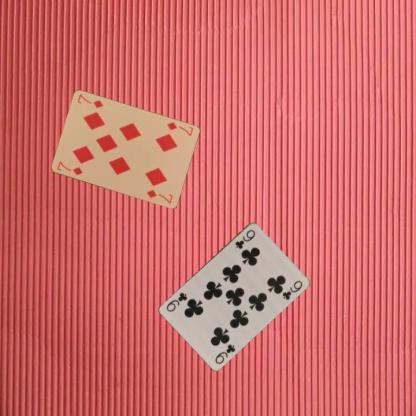7d: (54, 159, 84, 177), (164, 120, 194, 138)
9c: (213, 340, 236, 366), (232, 227, 257, 250)
